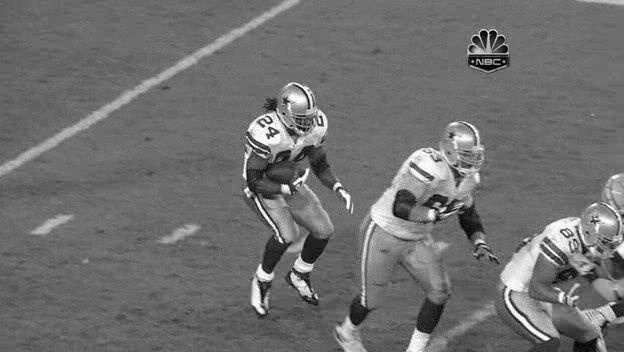person: (281, 84, 317, 131), (280, 84, 316, 131), (282, 84, 318, 131), (281, 83, 317, 130), (281, 85, 317, 132)
target_negative: (381, 151, 589, 227), (44, 70, 141, 190), (390, 297, 478, 349), (559, 177, 583, 328), (40, 328, 401, 337), (595, 12, 604, 171)
